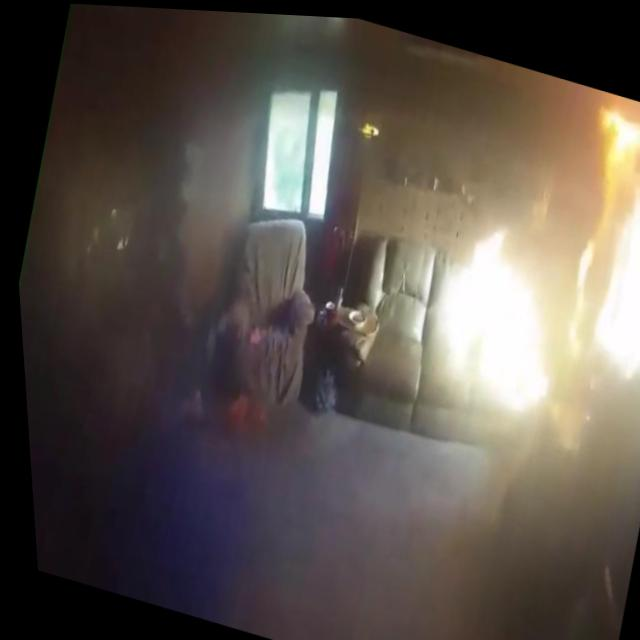fire: (565, 80, 640, 204)
